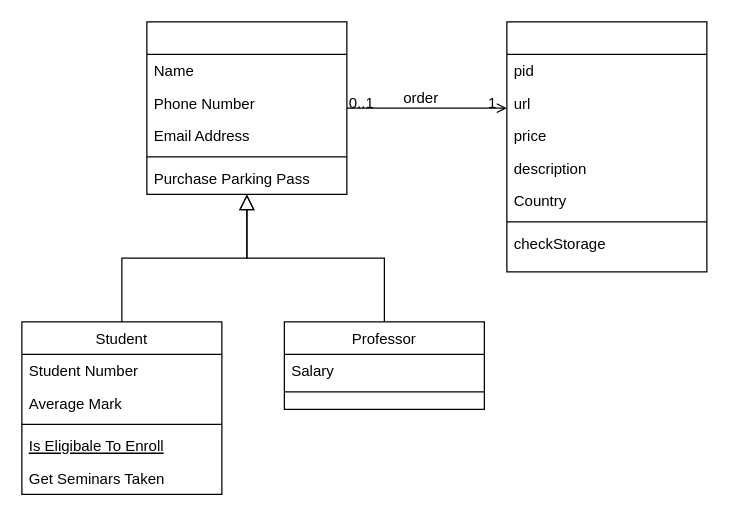
Some shapes in this 729 by 520 pixel diagram are drawn without their labels. The shapes that lost their labels are listed below. From the top down, each one's box as (x1, y1, x2, y2) in pixels, then its label:
(146, 21, 347, 194): Person
(506, 21, 707, 272): Product
